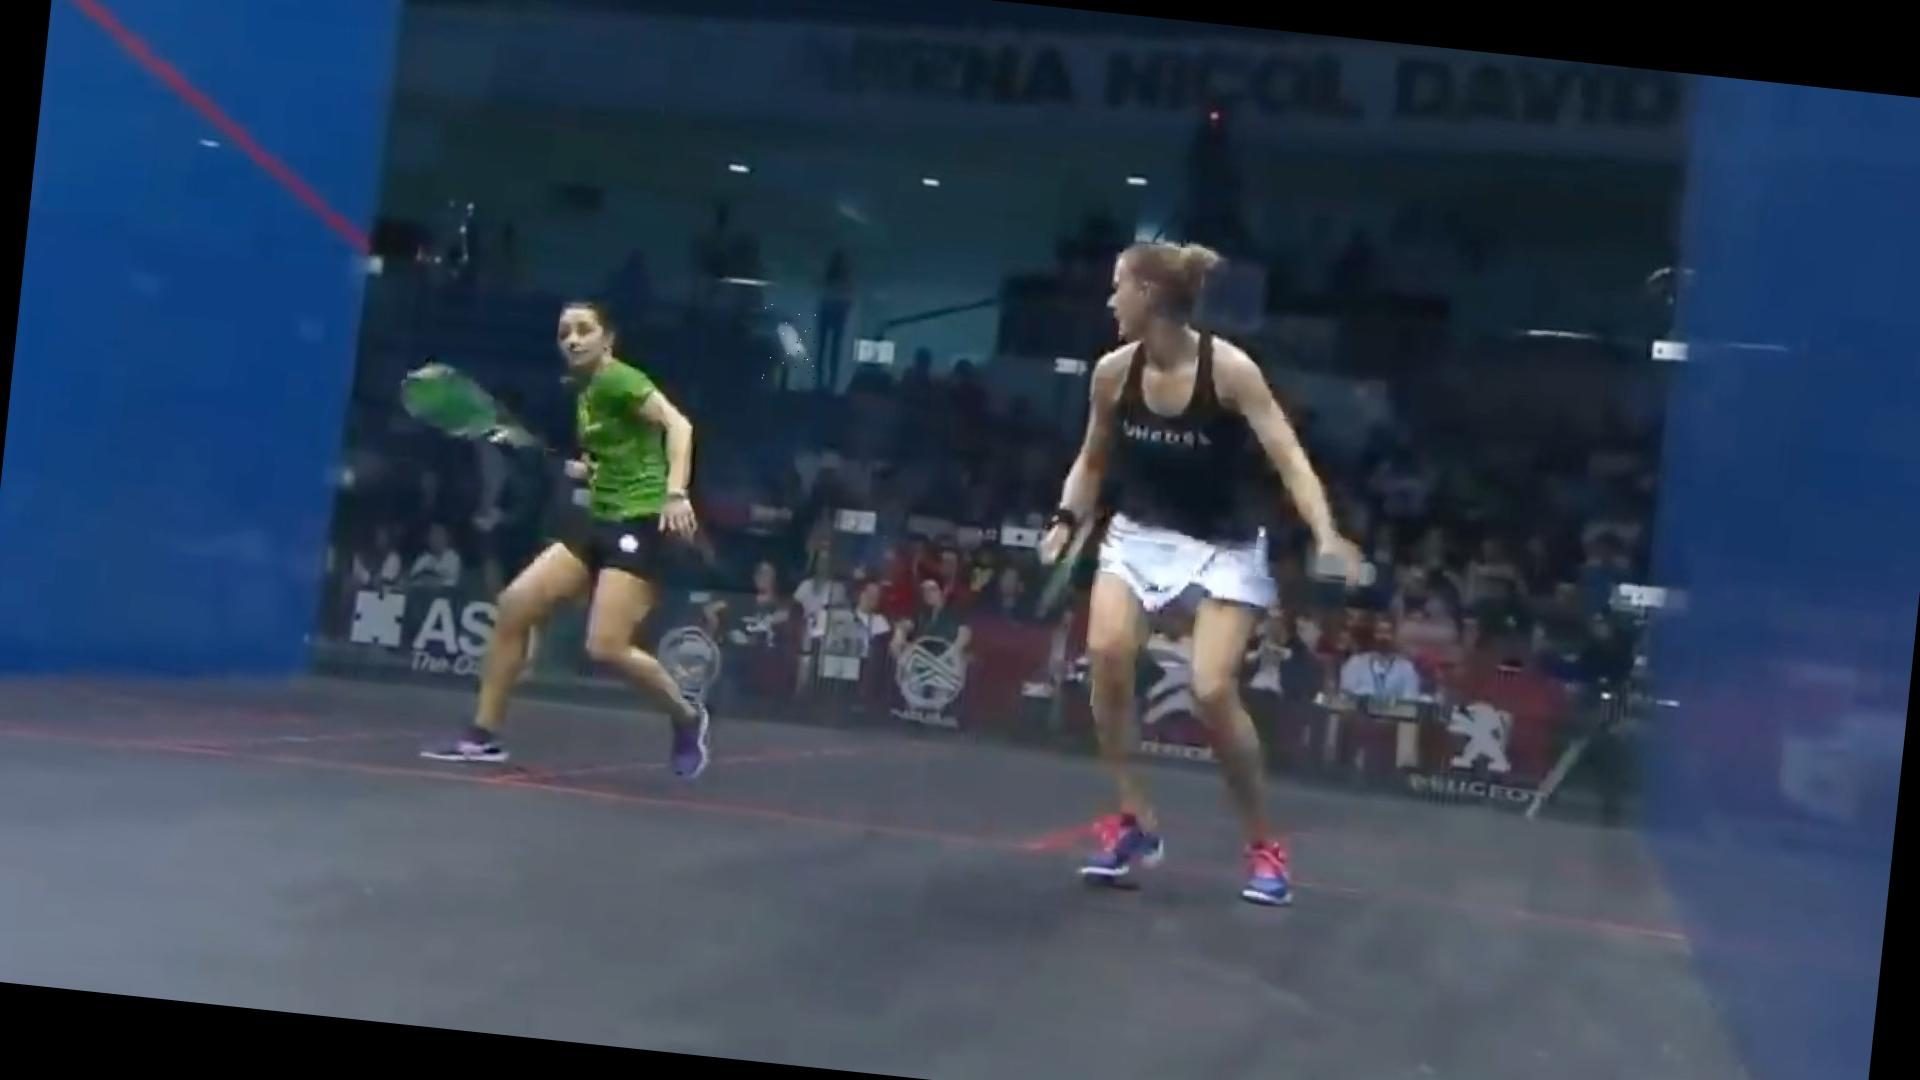Squash-Ball: (757, 303, 828, 388)
